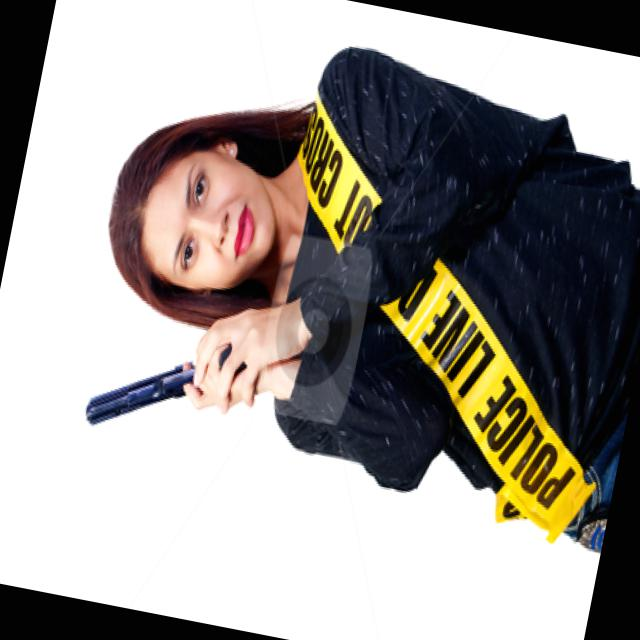handgun: (78, 315, 257, 457)
